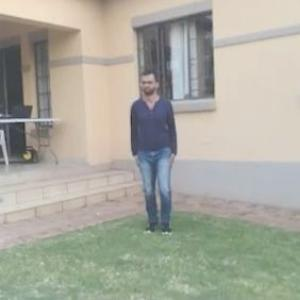follow: (124, 60, 180, 246)
